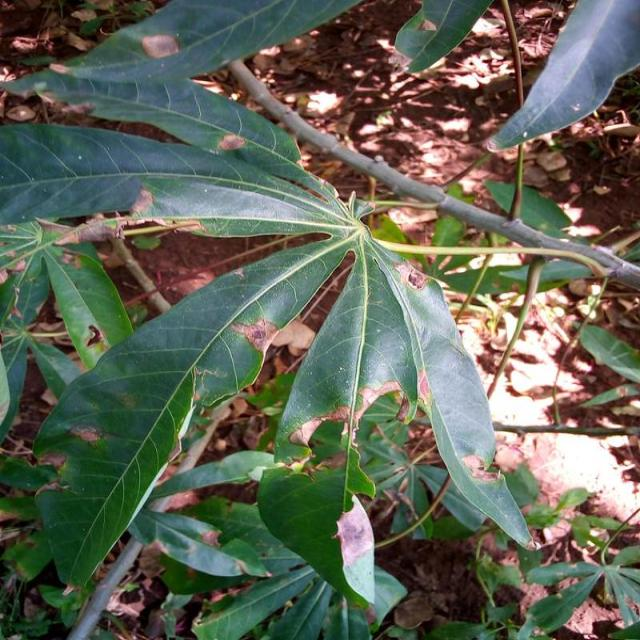cassava leaf: (1, 2, 535, 611), (485, 0, 638, 154)
